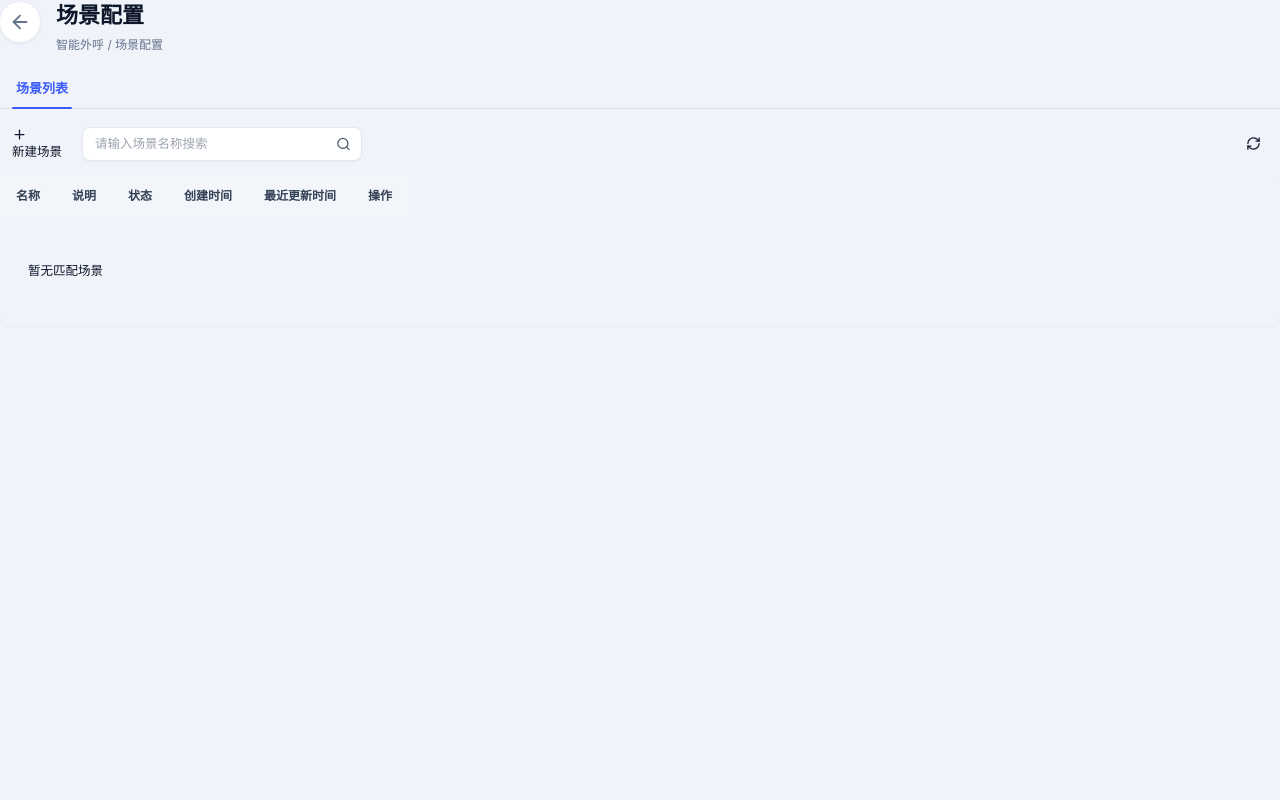
Test: 身份/沟通风格标签化 › 身份支持新增自定义标签并自动选中，可通过 × 删除
Click the button "新建场景": (37,144) [0,126,74,160]
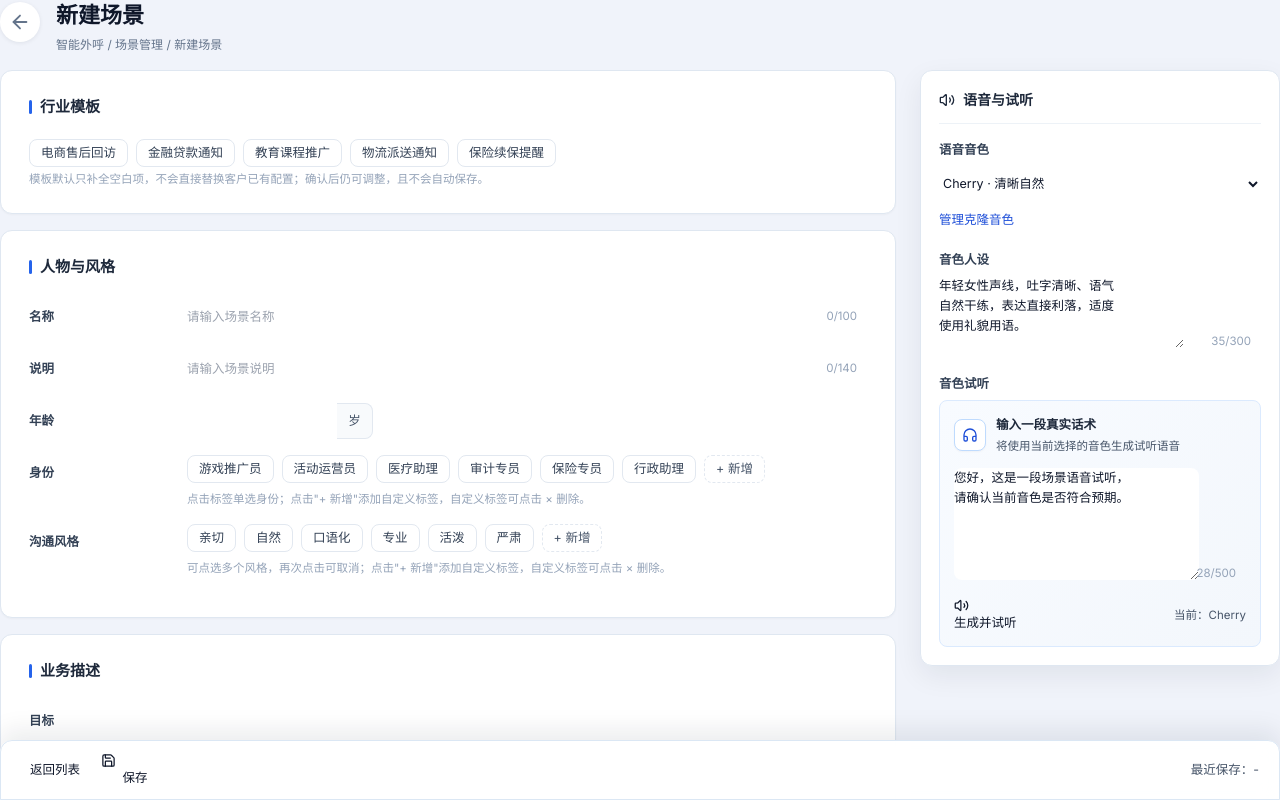
Click the 1st button "+ 新增": (734,469) [704,455,765,483]
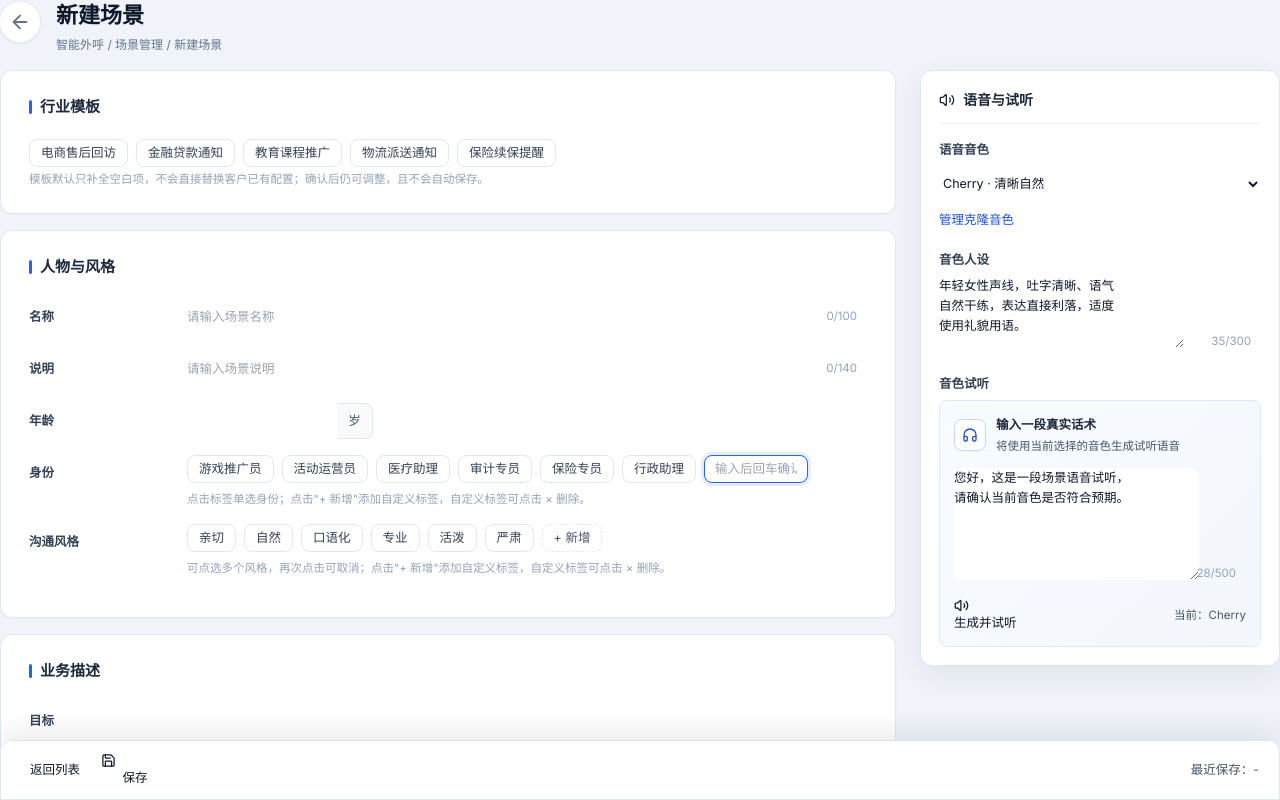
In the field with placeholder "输入后回车确认": (756,469) [704,455,808,483], type "客户成功专员"
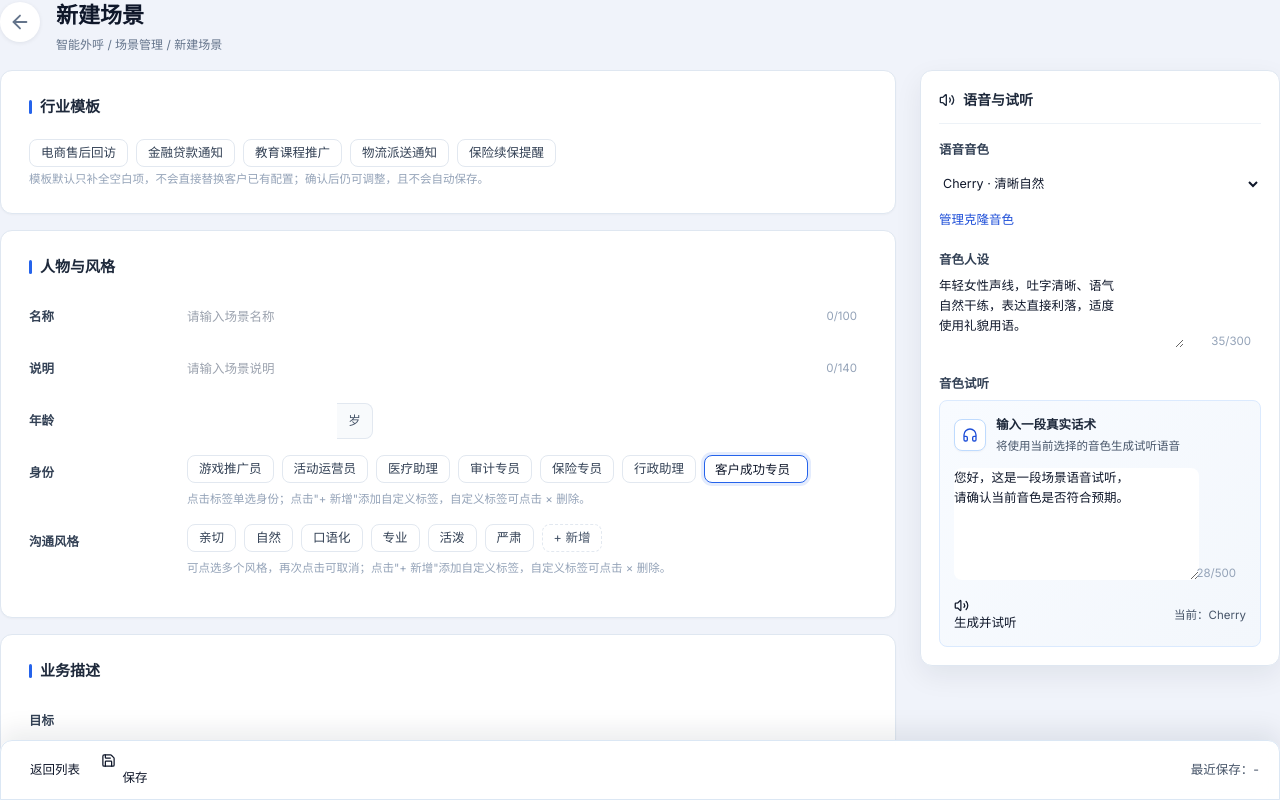
Press Enter in the 2nd field with placeholder "输入后回车确认", box [704,455,808,483]
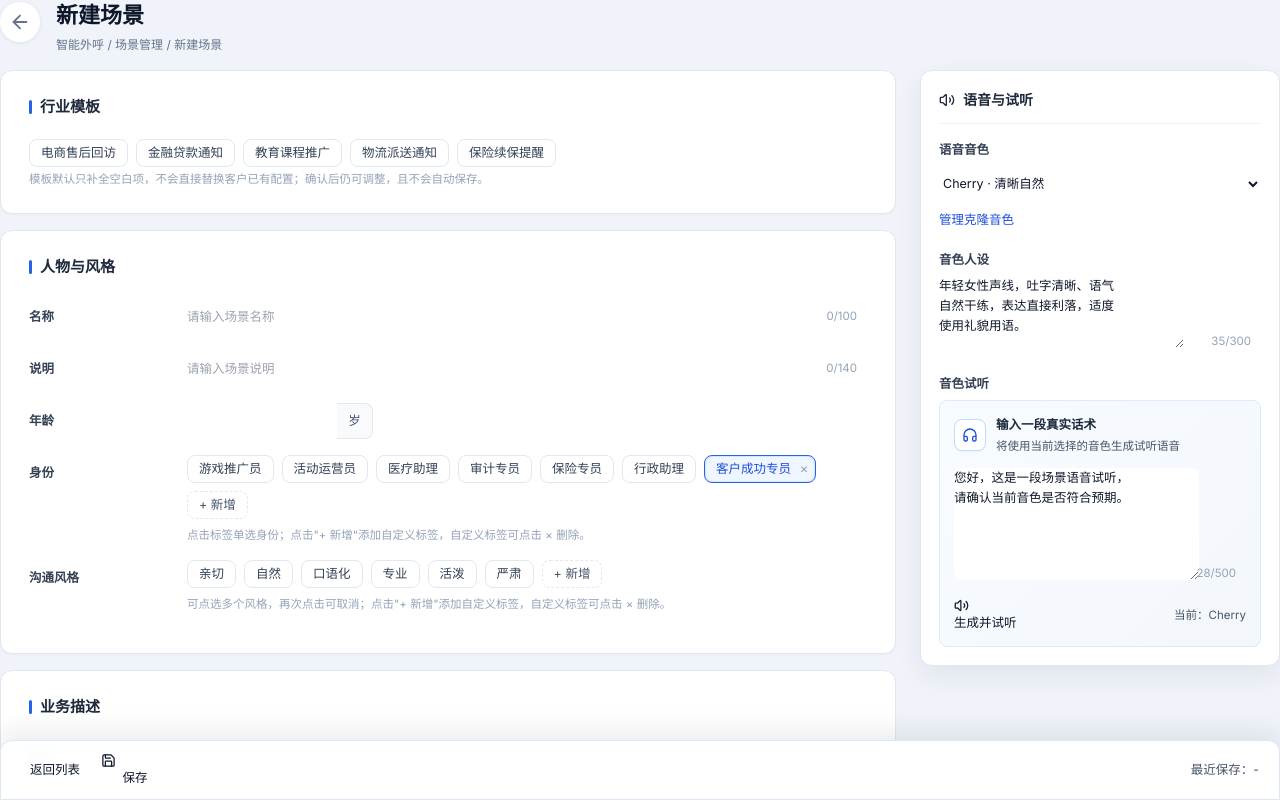
Click the button named "删除标签 客户成功专员": (804,469) [796,461,812,477]
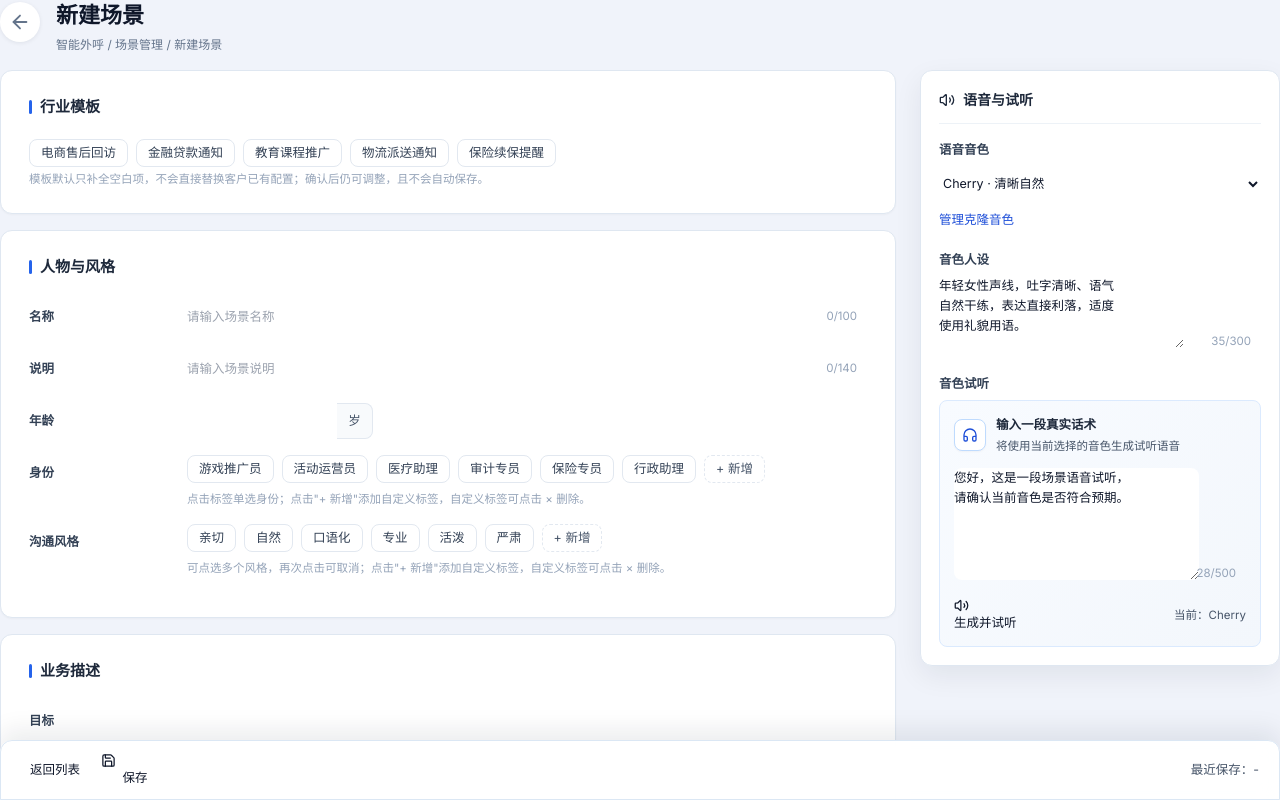
Result: the button "客户成功专员" is gone
